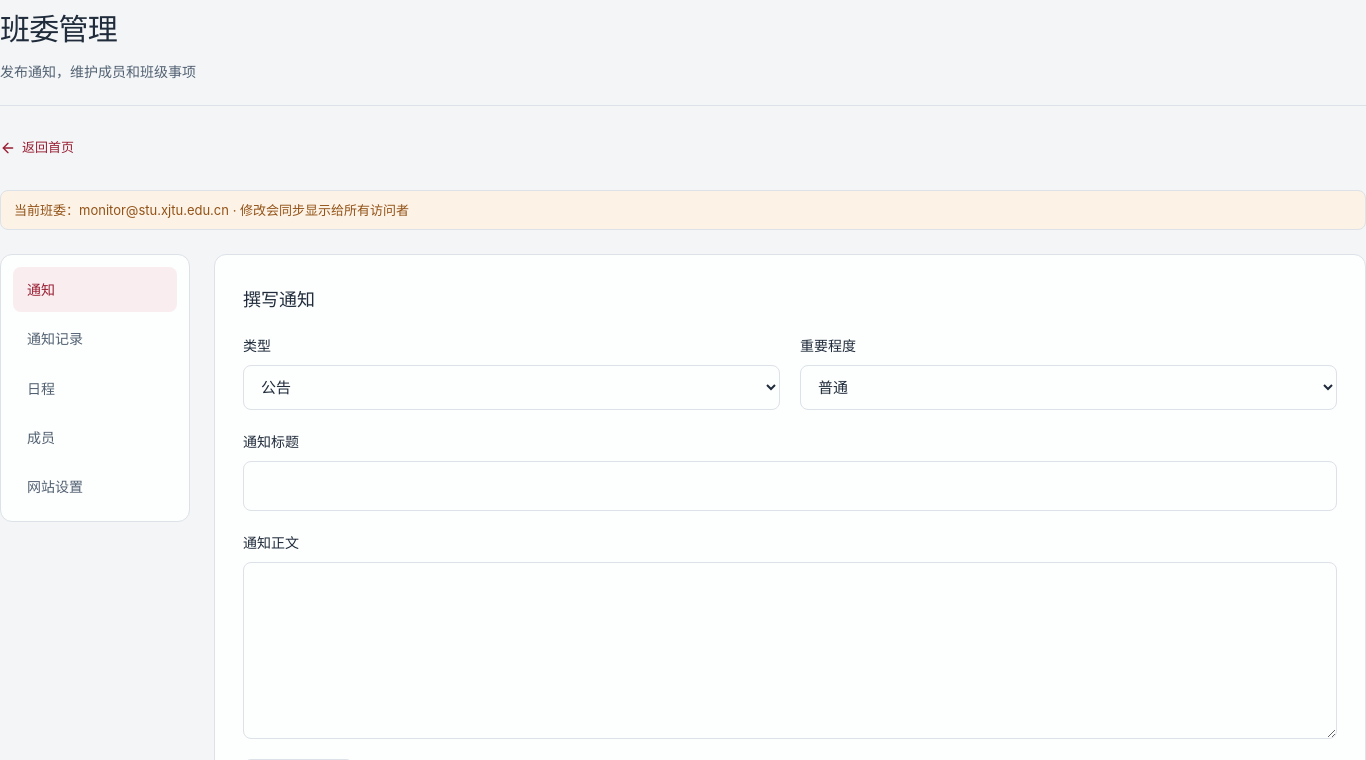
Test case: separates notice composition from records and opens a draft for editing from the records menu
Expected: the text "当前班委：monitor@stu.xjtu.edu.cn · 修改会同步显示给所有访问者" is shown, [0,190,1365,230]
Expected: the heading "撰写通知" is shown, [243,286,315,314]
Click the button "通知记录" at (95, 339), box [13,316,177,362]
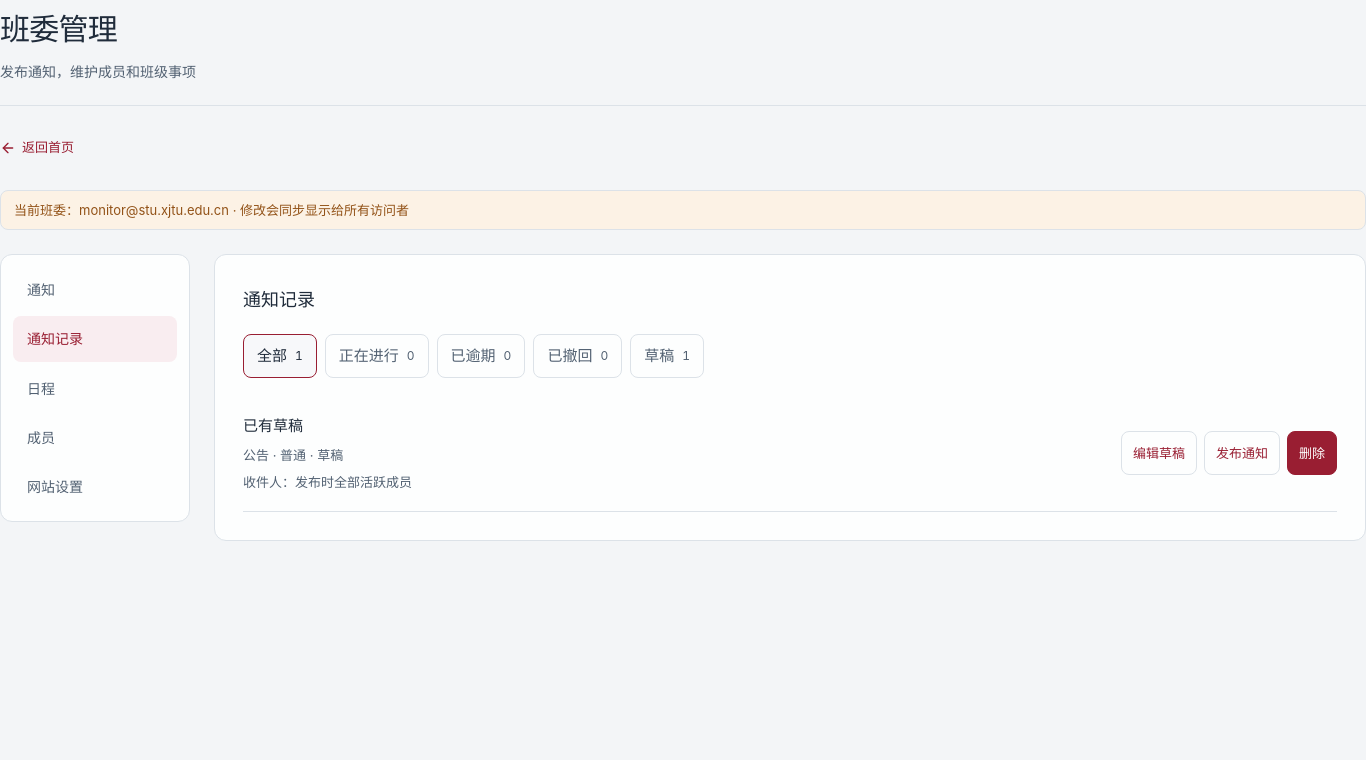
Expected: the text "已有草稿" is shown, [243,416,303,435]
Expected: the label "通知正文" is gone
Click the button "编辑草稿" at (1159, 454), box [1121,432,1197,476]
(page scrolled)
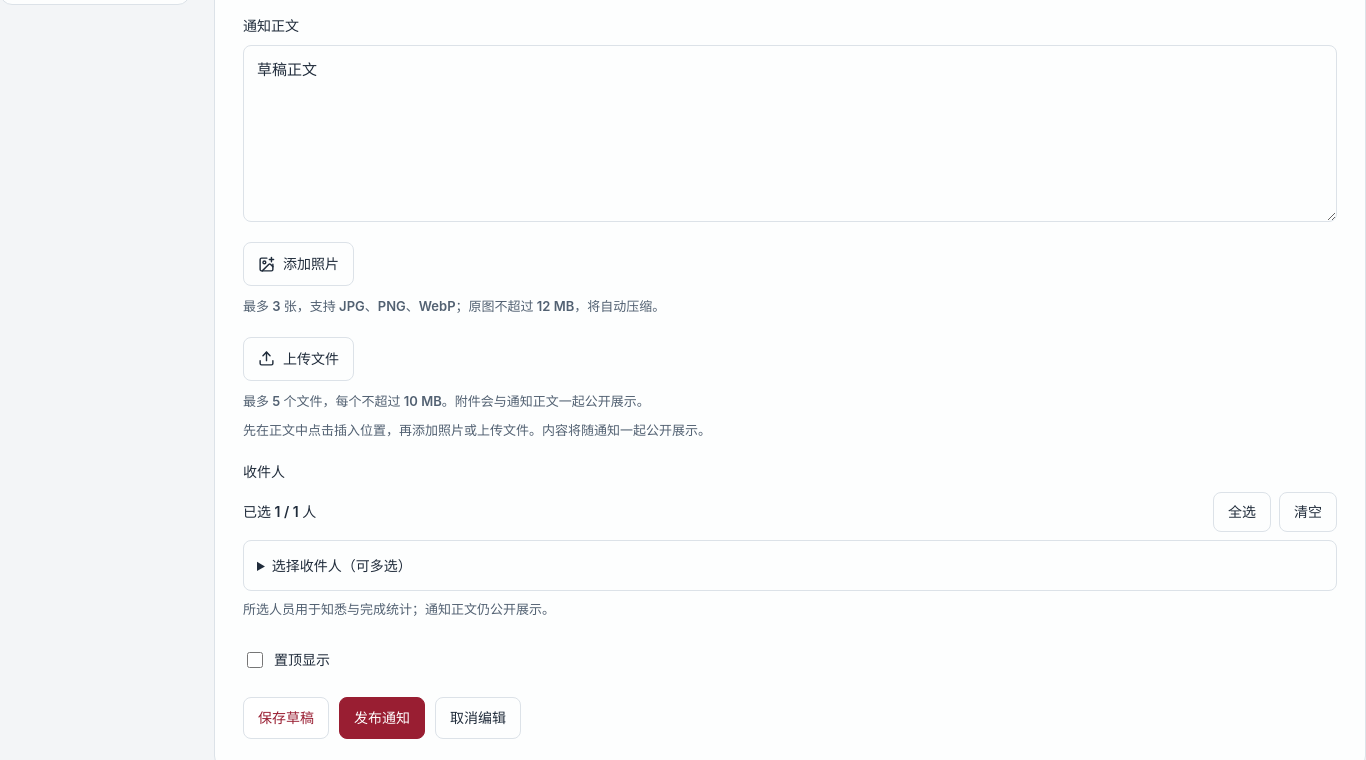
Expected: the button "发布通知" is shown, [339,696,425,738]
Expected: the text box labelled "通知正文" holds "草稿正文", [243,45,1337,222]
